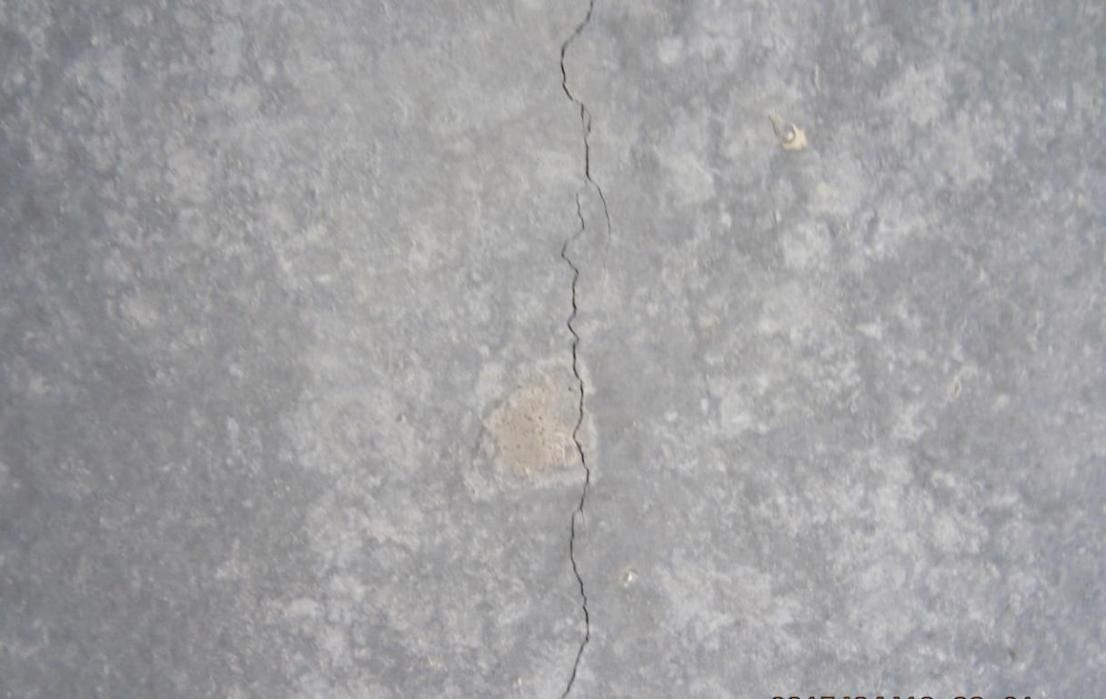crack: (524, 2, 651, 699)
